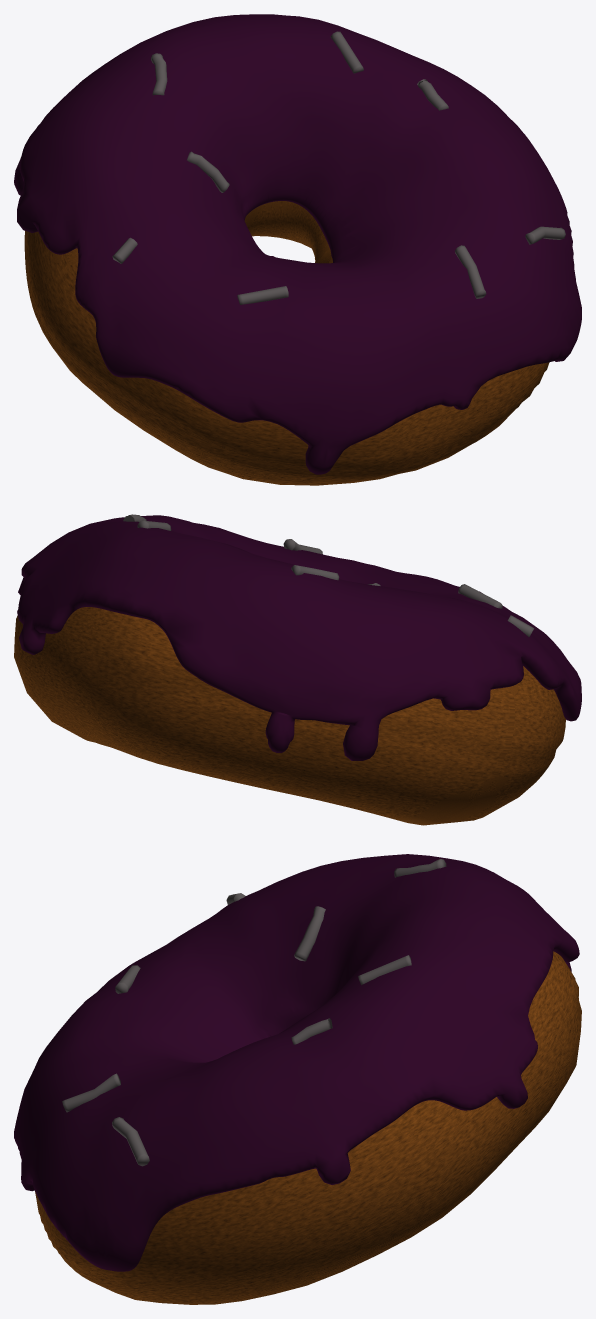
Rendered from donut_popravljen.gltf.
3 views of the same model, one above another, from view 1: azimuth 30°, elevation 25°; view 2: azimuth 150°, elevation 25°; view 3: azimuth 270°, elevation 25° (orthographic). The views are drawn at different scales.
Visible parts, largest first — view 1: icing, donut, sprinkle.001, sprinkle.006; view 2: icing, donut, sprinkle.006; view 3: icing, donut, sprinkle.005, sprinkle.007, sprinkle.001.
Part boxes in pixels (left/top/right/bottom): icing: left=14, top=14, right=581, bottom=474; donut: left=24, top=201, right=549, bottom=485; sprinkle.001: left=455, top=245, right=486, bottom=298; sprinkle.006: left=237, top=286, right=288, bottom=304; icing: left=17, top=515, right=581, bottom=760; donut: left=14, top=607, right=565, bottom=825; sprinkle.006: left=458, top=584, right=502, bottom=608; icing: left=14, top=854, right=579, bottom=1271; donut: left=35, top=951, right=581, bottom=1304; sprinkle.005: left=112, top=1117, right=149, bottom=1166; sprinkle.007: left=294, top=906, right=325, bottom=961; sprinkle.001: left=62, top=1073, right=120, bottom=1112.
Bounding box in the file's own units: 0.1038 × 0.0661 × 0.0948.
3 materials, 3 textured.
